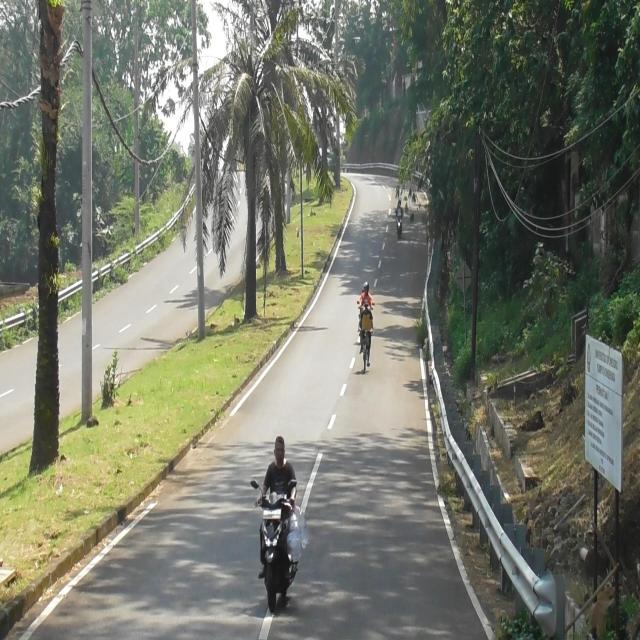motorcycle: (252, 475, 298, 613), (395, 218, 405, 238)
person: (257, 440, 296, 511), (356, 281, 374, 310), (396, 200, 404, 220)
rider_region: (251, 436, 305, 617), (393, 196, 406, 240)
